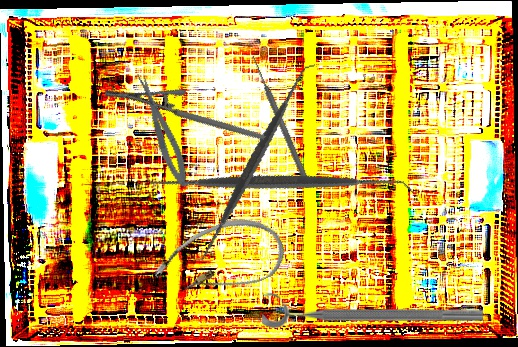Cannula: (146, 203, 293, 320)
Fixation Ring: (262, 290, 483, 328)
Micro Scissor: (132, 69, 194, 191)
Needle Holder: (103, 46, 266, 185)
Pusher: (249, 54, 313, 189)
Spatula Surgical: (142, 46, 415, 319), (159, 63, 350, 262)
